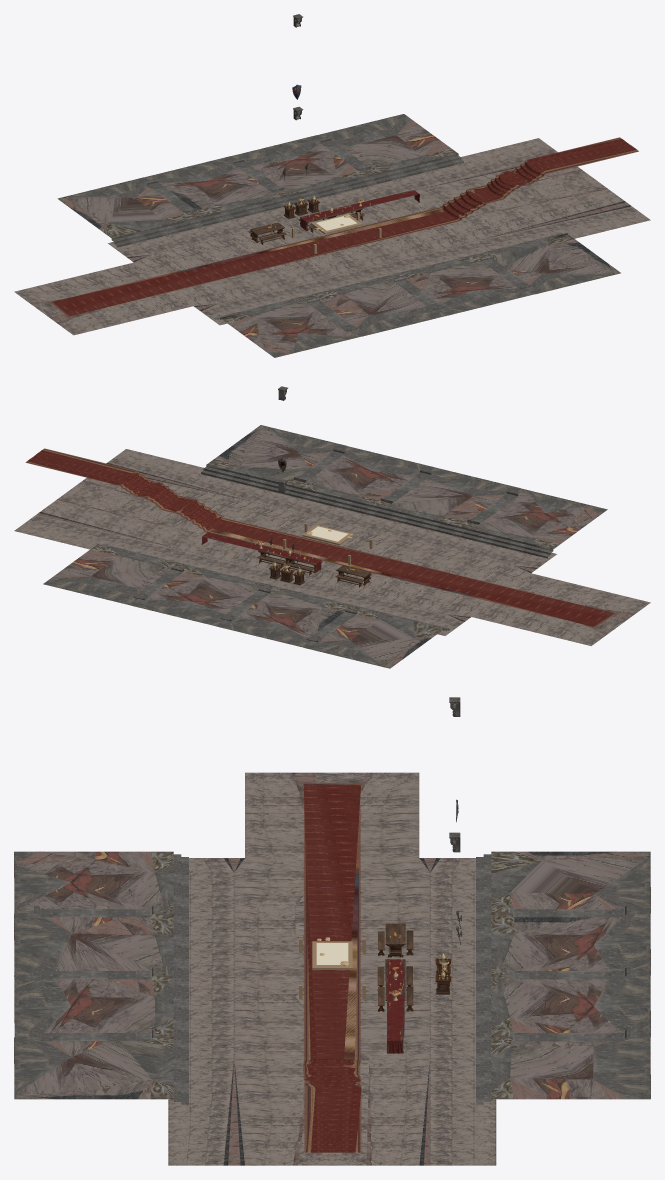
File: world_diorama.glb
3 views of the same model, one above another, from view 1: azimuth 30°, elevation 25°; view 2: azimuth 150°, elevation 25°; view 3: azimuth 270°, elevation 25° (orthographic). The views are drawn at different scales.
Visible parts, largest first — view 1: KB3D_ECI_IntKingsHall_A_FloorB, KB3D_ECI_IntKingsHall_A_Carpet, KB3D_ECI_IntKingsHall_A_TableFabricD, KB3D_ECI_IntKingsHall_A_TableE; view 2: KB3D_ECI_IntKingsHall_A_FloorB, KB3D_ECI_IntKingsHall_A_Carpet, KB3D_ECI_IntKingsHall_A_TableFabricD, KB3D_ECI_IntKingsHall_A_TableE; view 3: KB3D_ECI_IntKingsHall_A_FloorB, KB3D_ECI_IntKingsHall_A_Carpet, KB3D_ECI_IntKingsHall_A_TableFabricD, KB3D_ECI_IntKingsHall_A_TableE, Plane.
Part boxes in pixels (x1,y1,x2,y2): KB3D_ECI_IntKingsHall_A_FloorB: (14,114,650,357); KB3D_ECI_IntKingsHall_A_Carpet: (50,137,638,316); KB3D_ECI_IntKingsHall_A_TableFabricD: (300,190,419,230); KB3D_ECI_IntKingsHall_A_TableE: (248,222,286,244); KB3D_ECI_IntKingsHall_A_FloorB: (14,425,650,668); KB3D_ECI_IntKingsHall_A_Carpet: (25,448,615,627); KB3D_ECI_IntKingsHall_A_TableFabricD: (201,532,321,572); KB3D_ECI_IntKingsHall_A_TableE: (335,565,372,587); KB3D_ECI_IntKingsHall_A_FloorB: (14,772,650,1165); KB3D_ECI_IntKingsHall_A_Carpet: (303,782,361,1152); KB3D_ECI_IntKingsHall_A_TableFabricD: (387,959,404,1053); KB3D_ECI_IntKingsHall_A_TableE: (378,923,413,957); Plane: (316,943,348,964).
Size of the model in its own units: 51.49 by 16.32 by 33.13.
16 materials, 13 textured.
